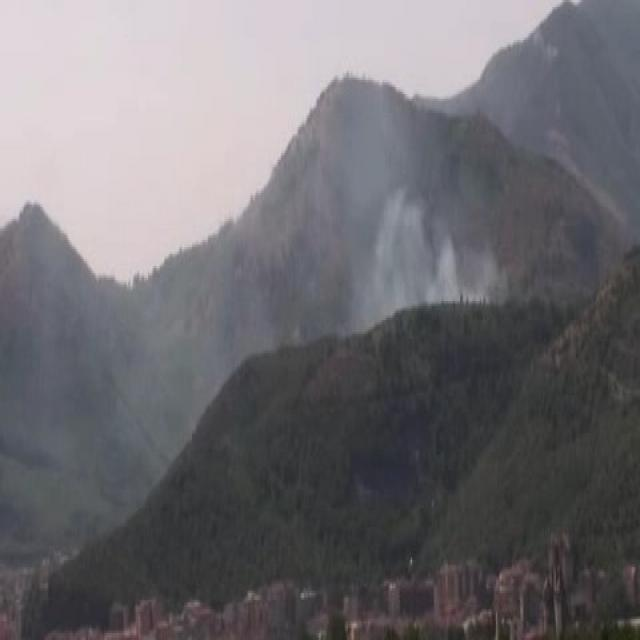smoke: (296, 114, 474, 305)
